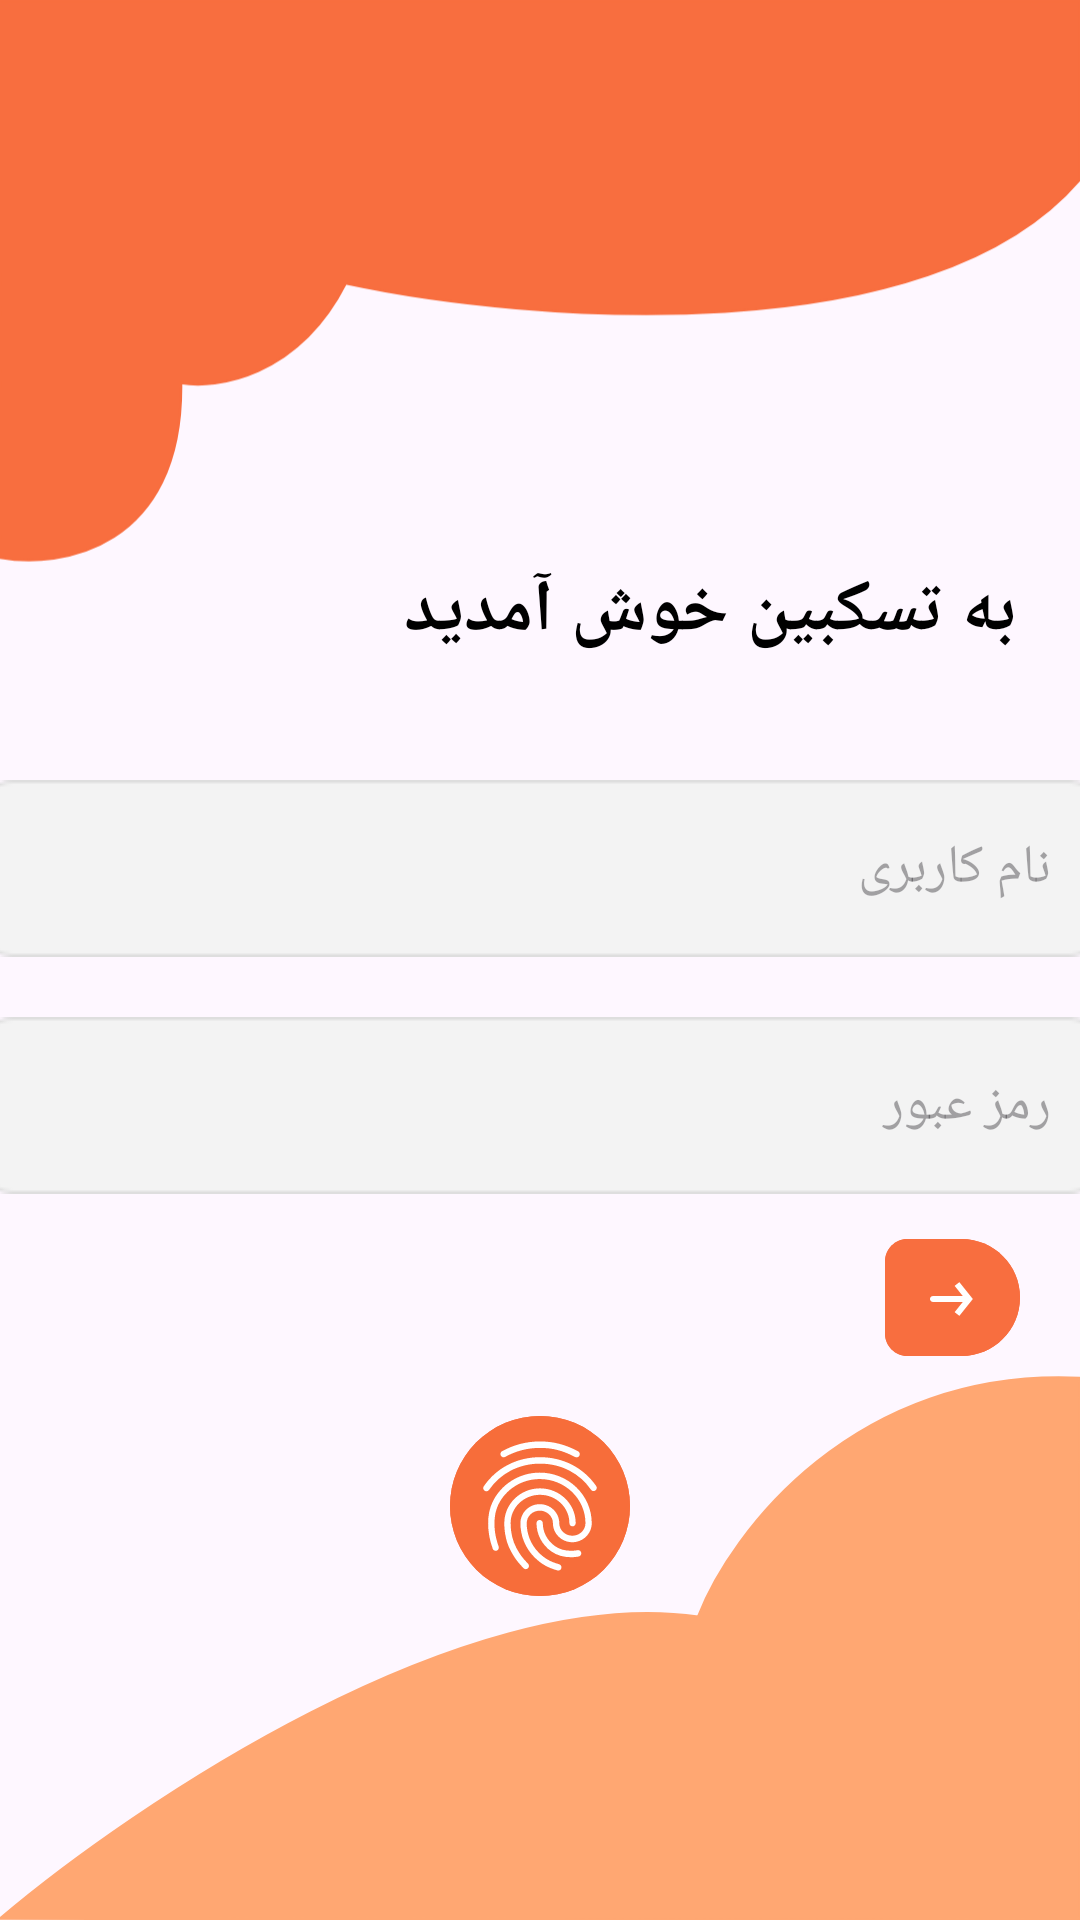

Point at icon controls on the screen. Image size 1080w x 1920h, points as (x,y).
btnfinger: (540,1506)
btnnext: (952,1297)
